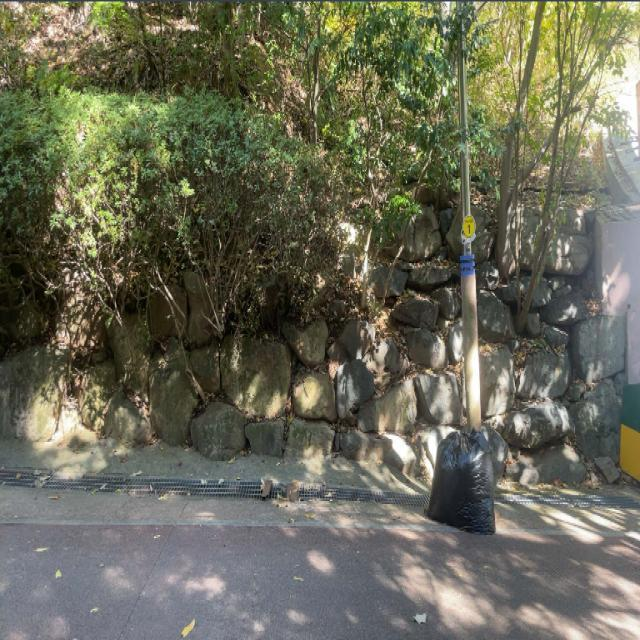Trashbag: (419, 429, 504, 536)
